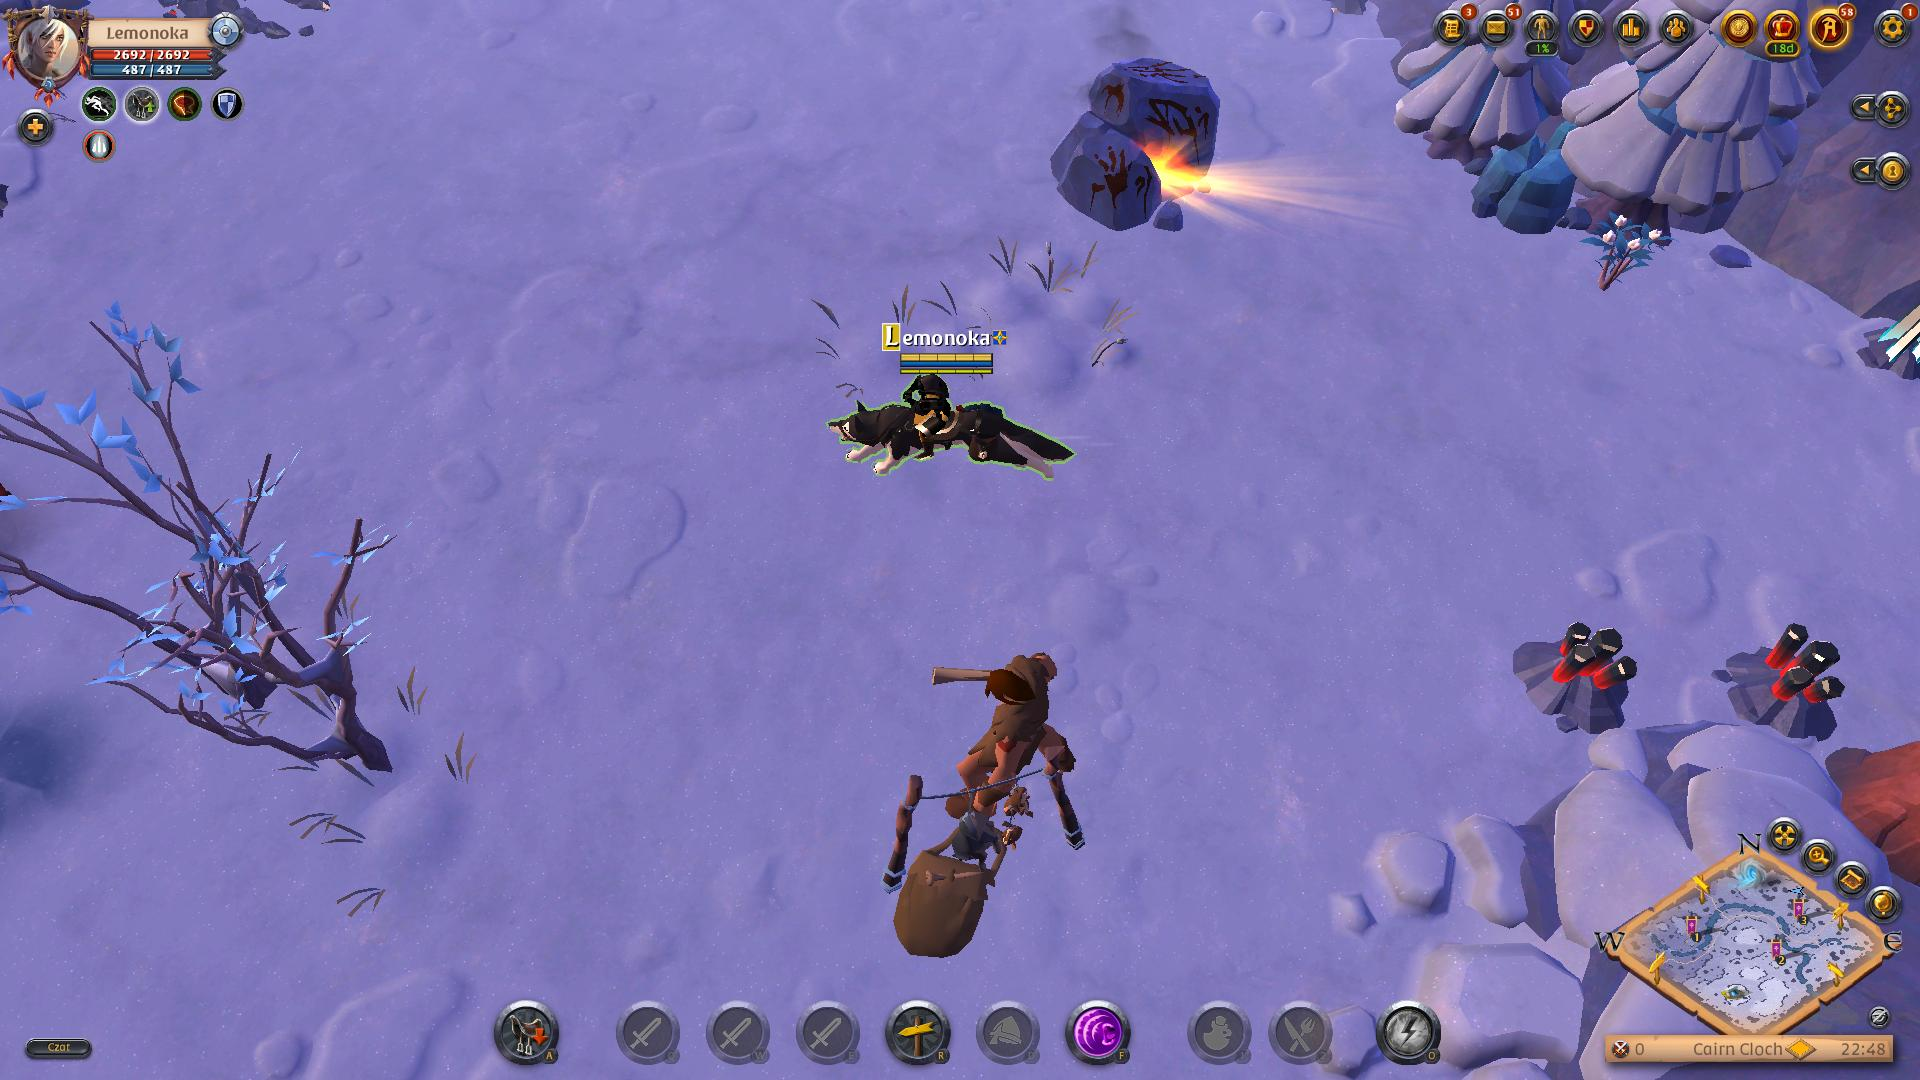fiber tier 4: (1584, 207, 1669, 291)
fiber tier 5: (1833, 737, 1920, 845)
ore tier 5: (1507, 607, 1640, 741), (1725, 615, 1850, 745)
